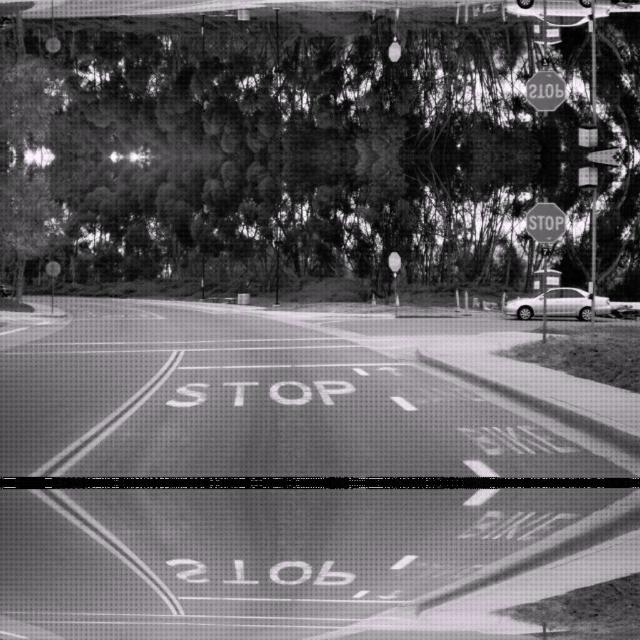stop: (525, 200, 565, 242), (525, 70, 565, 111), (388, 250, 400, 270), (388, 42, 400, 62)
